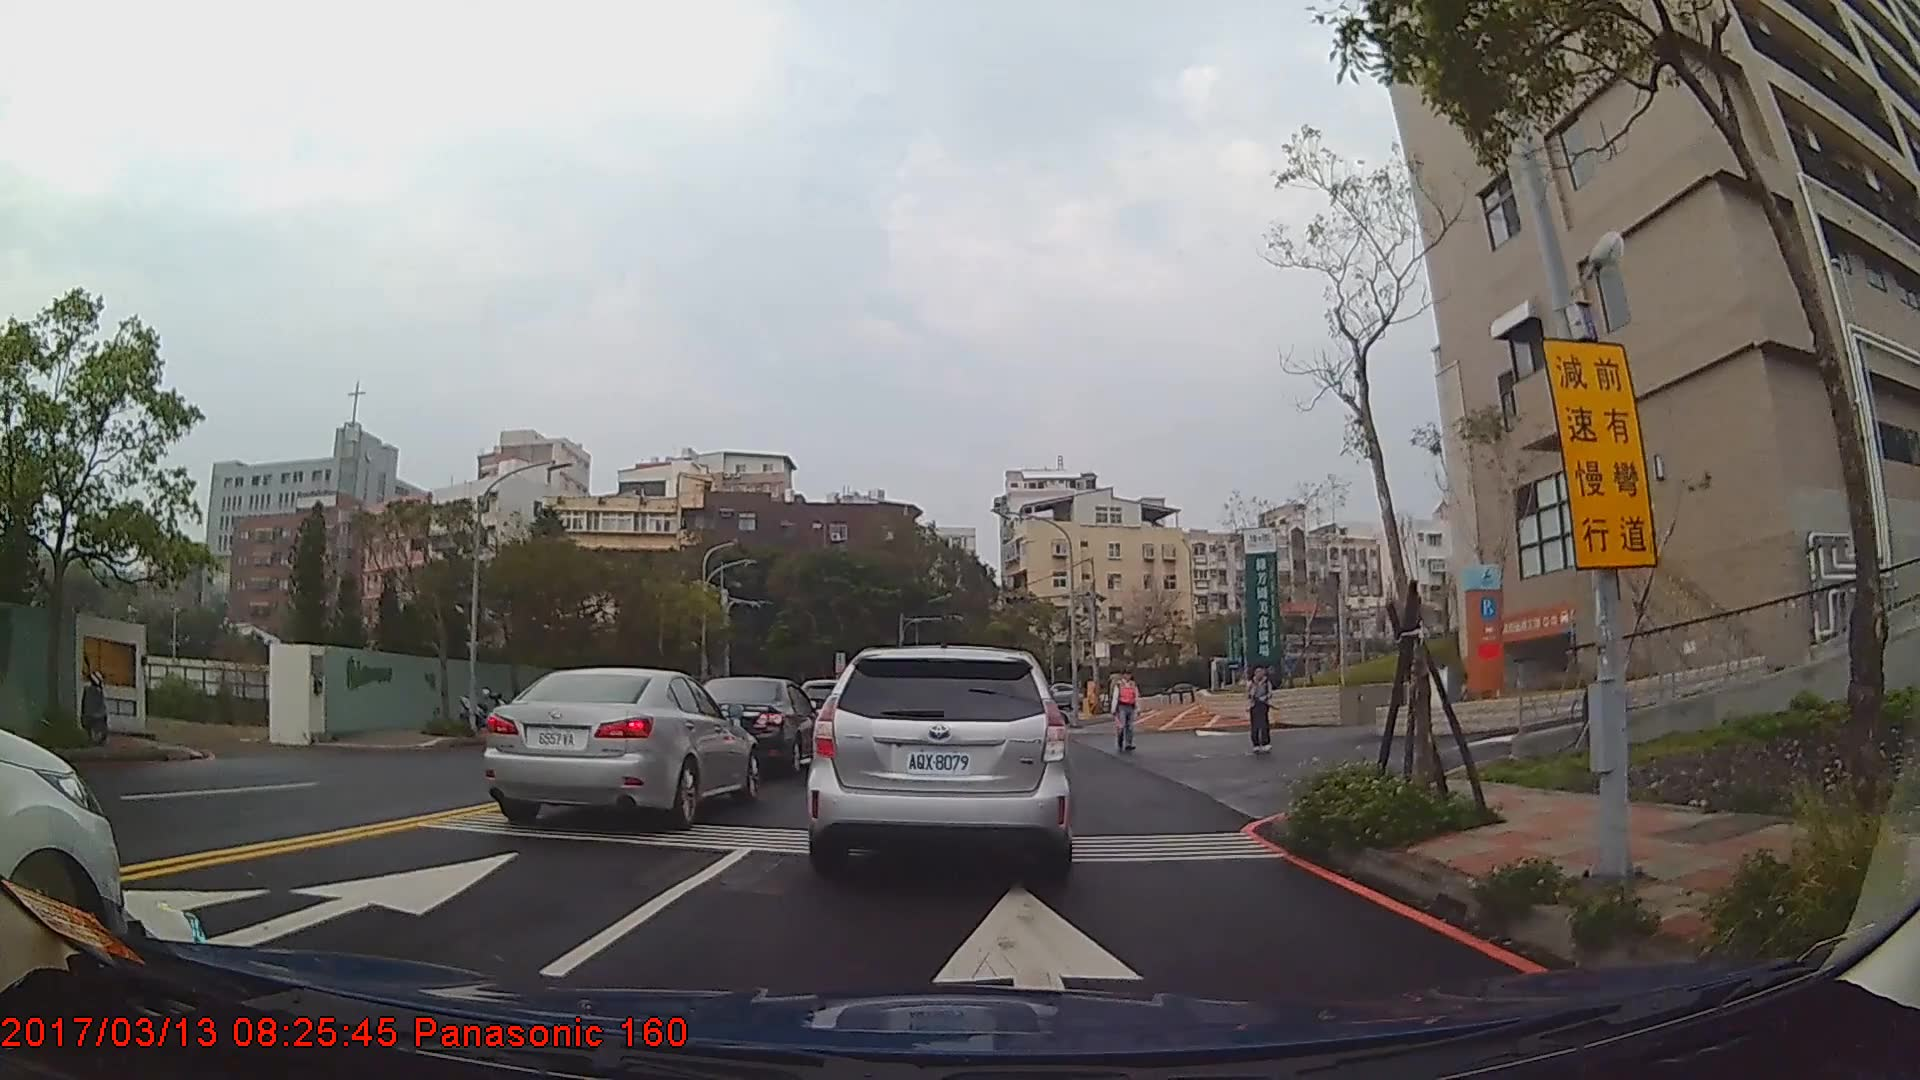pedestrian: (1110, 670, 1142, 756), (1247, 668, 1273, 757)
vehicle: (806, 645, 1074, 878), (482, 666, 757, 829), (688, 676, 820, 778)
